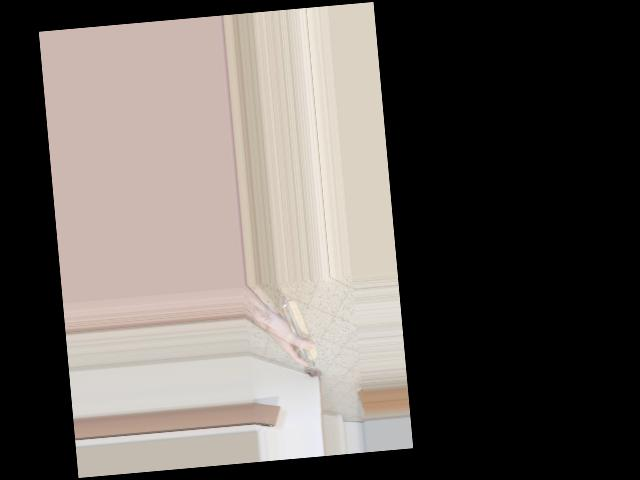cheese: (265, 303, 326, 373)
